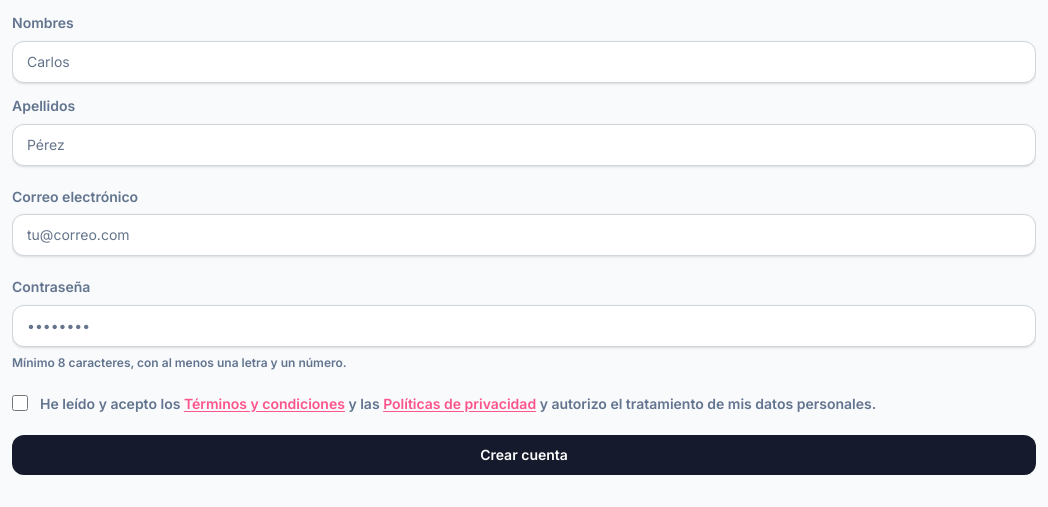
Scenario: SignupForm › lista todos los incumplimientos de la política de contraseña
This screenshot has width=1048, height=507.
Click the button "Crear cuenta".
click(524, 455)  # box [12,435,1036,475]
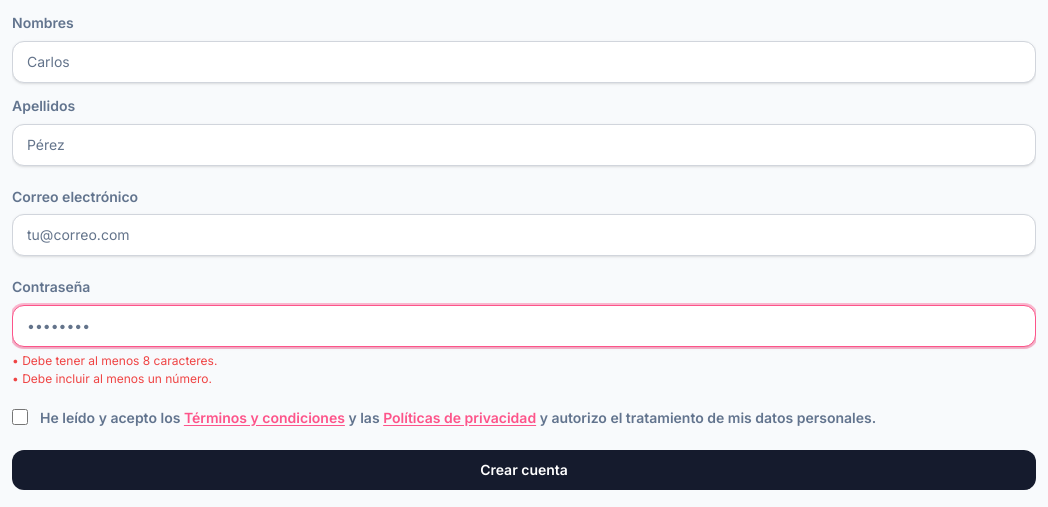
Check: the list item "• Debe tener al menos 8 caracteres." is shown, box [12,353,217,368]
Check: the list item "• Debe incluir al menos un número." is shown, box [12,371,212,386]
